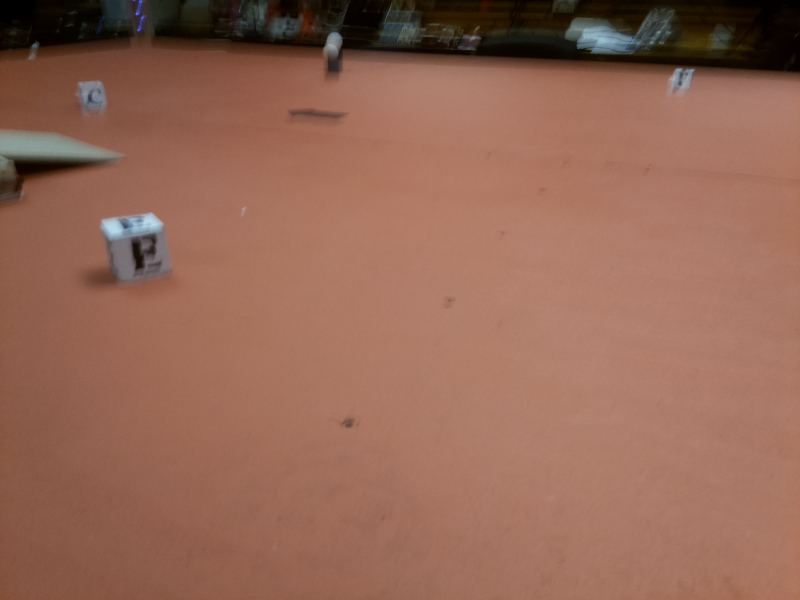blockC: (75, 84, 108, 116)
blockE: (99, 215, 180, 283)
blockF: (667, 68, 699, 96)
obstacle: (322, 37, 346, 82)
slope: (1, 127, 126, 166)
start: (287, 108, 349, 128)
